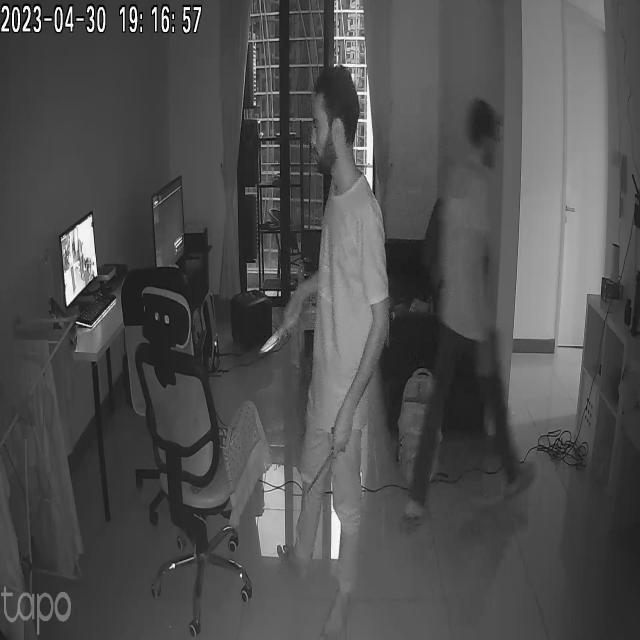Knife: (248, 308, 305, 362), (304, 442, 348, 498)
